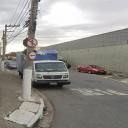NoSeguir: (26, 38, 38, 47)
